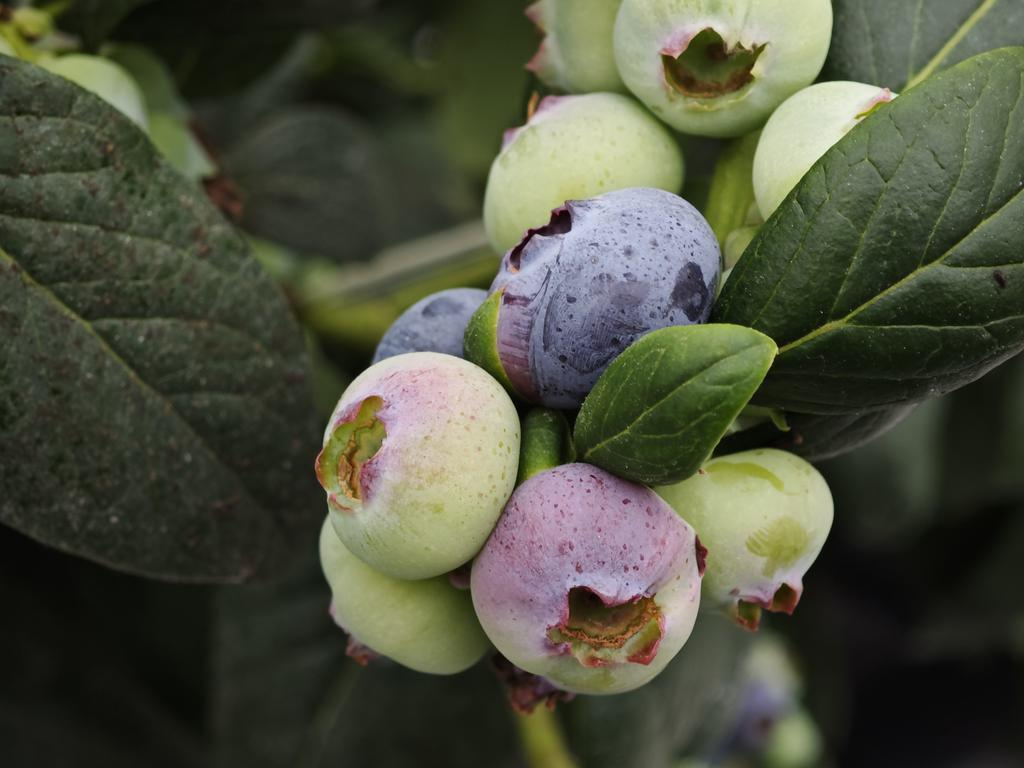RipeBlueBerry: (492, 188, 720, 403)
Semi-RipeBlueBerry: (478, 461, 701, 693), (321, 351, 518, 577)
UnripeBlueBerry: (618, 0, 838, 124)
